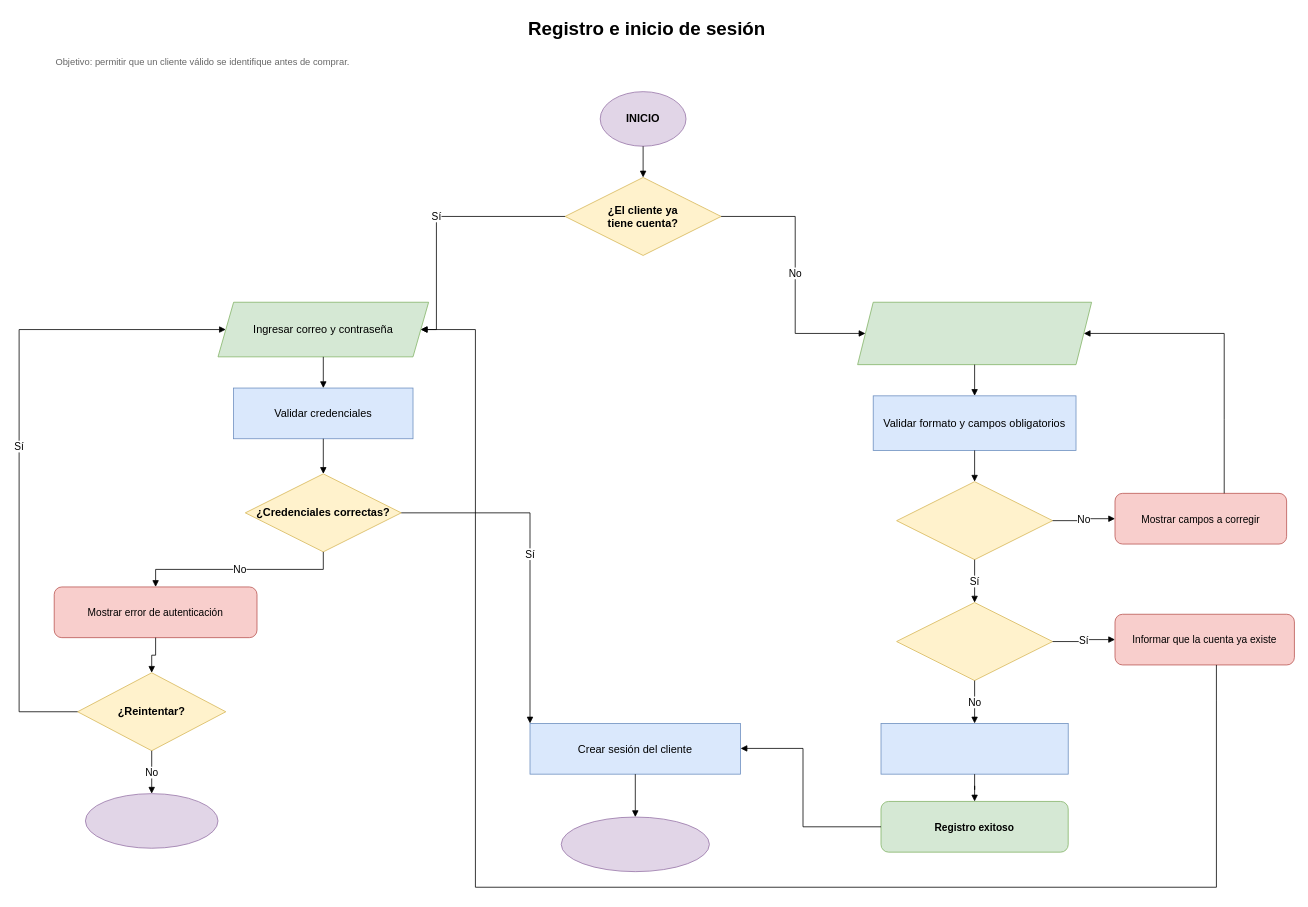
The diagram is 1308 pixels wide and 907 high, and some of its shapes have lost their labels. Each missing label, with the centre of its shape:
Crear cuenta: the point at 974,748
FIN: cliente autenticado: the point at 634,844
Ingresar nombre, correo, contraseña y datos básicos: the point at 974,333
Salir / cancelar acceso: the point at 151,820
¿Correo ya registrado?: the point at 974,641
¿Datos válidos?: the point at 974,520
